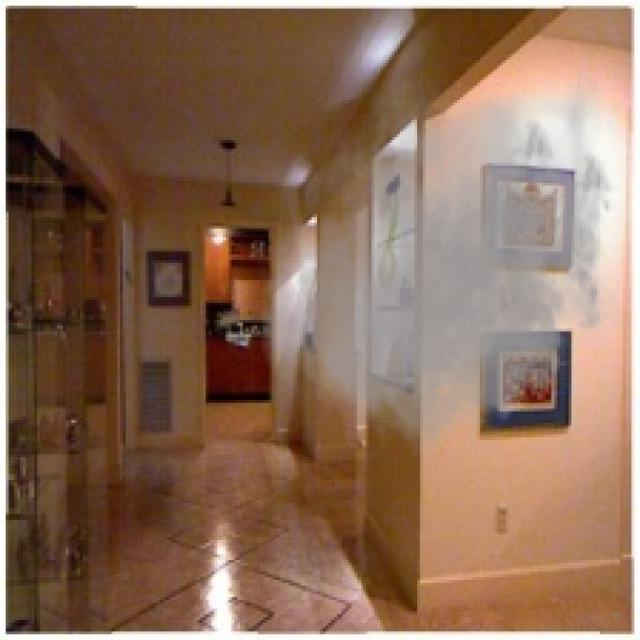Smoke: (248, 57, 632, 469)
